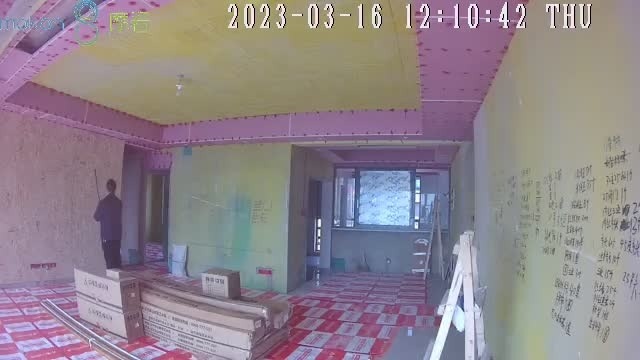people: (94, 179, 123, 268)
window: (333, 166, 448, 229)
